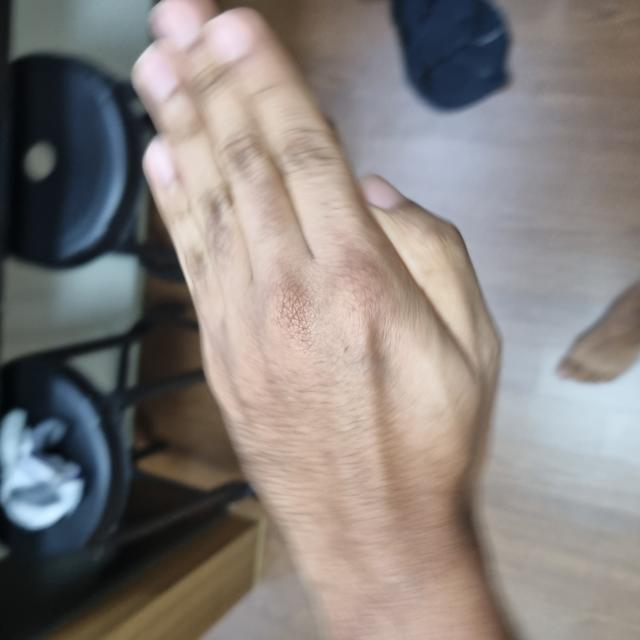Paper: (73, 145, 632, 639)
